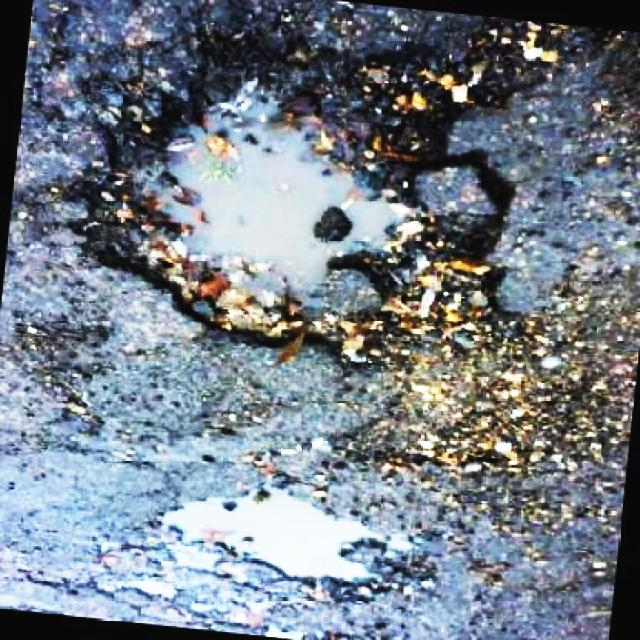pothole: (78, 21, 491, 352), (337, 262, 629, 483), (150, 472, 408, 598)
